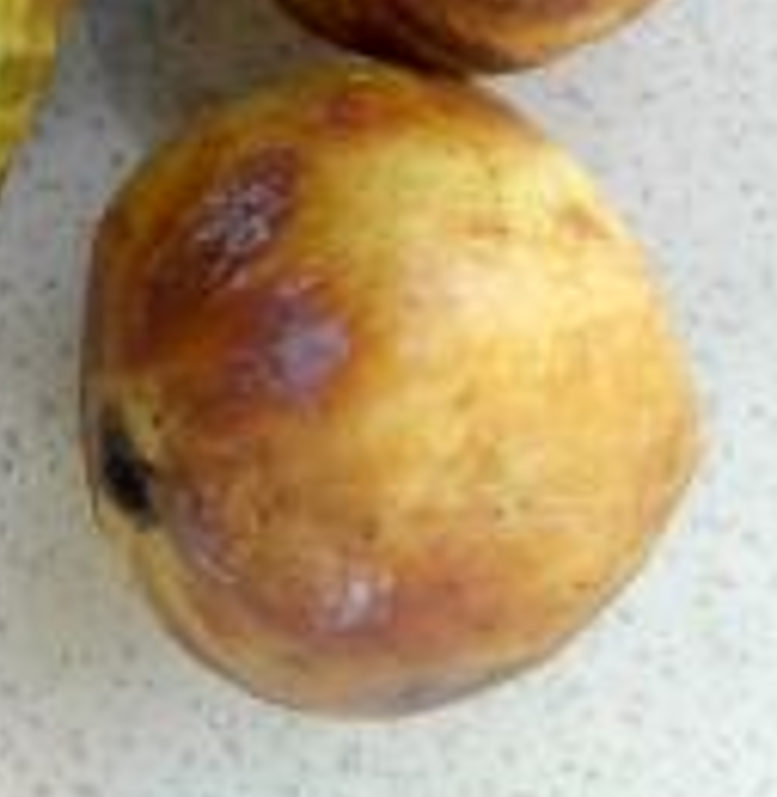guava_C: (76, 57, 708, 723)
